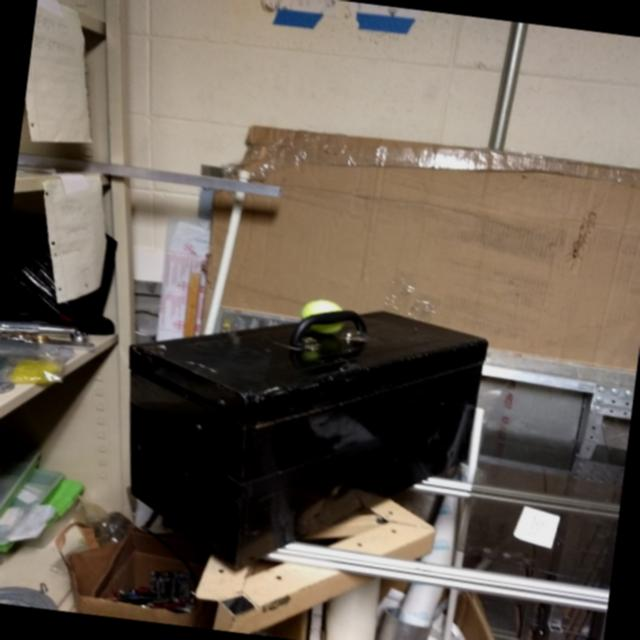tennis-ball: (299, 296, 349, 334)
